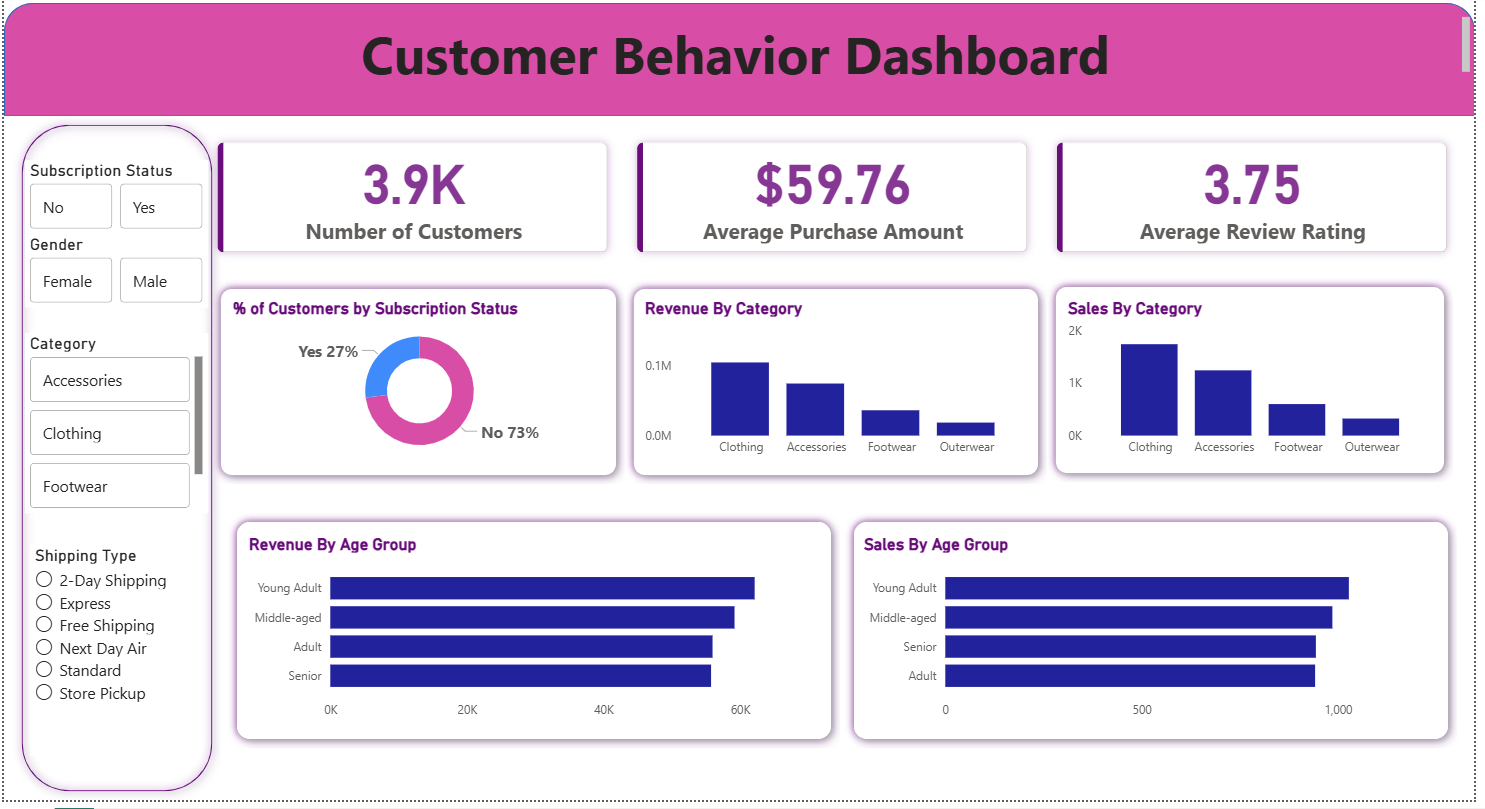

This screenshot's page, from the dashboard's own definition file:
{"tool":"powerbi","page":{"name":"Page 1","canvas":[1500,820],"ordinal":0},"visuals":[{"type":"cardVisual","fields":{"Data":["public customer.Number of Customers","public customer.Average Purchase Amount","public customer.Average Review Rating"]},"box":[189.7,121.4,1310.6,168.3],"z":0},{"type":"shape","box":[0,7.1,1500.3,115.2],"z":1000},{"type":"textbox","box":[0,16.3,1500.3,73.4],"z":2000},{"type":"shape","box":[212.1,289.7,426.3,208.1],"z":3000},{"type":"donutChart","title":"% of Customers by Subscription Status","fields":{"Category":["public customer.subscription_status"],"Y":["CountNonNull(public customer.customer_id)"]},"box":[228.5,308,391.6,170.3],"z":4000},{"type":"shape","box":[638.5,289.7,425.3,208.1],"z":5000},{"type":"shape","box":[1063.8,289.7,414.1,208.1],"z":6000},{"type":"clusteredColumnChart","title":"Revenue By Category","fields":{"Y":["Sum(public customer.purchase_amount)"],"Category":["public customer.category"]},"box":[653.8,308,394.7,170.3],"z":7000},{"type":"clusteredColumnChart","title":"Sales By Category","fields":{"Y":["CountNonNull(public customer.customer_id)"],"Category":["public customer.category"]},"box":[1080.1,308,380.4,170.3],"z":8000},{"type":"shape","box":[9.2,122.4,212.1,697.6],"z":9000},{"type":"advancedSlicerVisual","fields":{"Values":["public customer.subscription_status"]},"box":[21.4,167.3,186.6,75.5],"z":10000},{"type":"advancedSlicerVisual","fields":{"Values":["public customer.gender"]},"box":[21.4,242.7,186.6,75.5],"z":11000},{"type":"advancedSlicerVisual","fields":{"Values":["public customer.category"]},"box":[21.4,343.7,186.6,183.6],"z":12000},{"type":"listSlicer","fields":{"Values":["public customer.shipping_type"]},"box":[26.5,559.9,176.4,215.2],"z":13000},{"type":"shape","box":[221.3,527.3,631.3,239.7],"z":15000},{"type":"clusteredBarChart","title":"Revenue By Age Group","fields":{"Y":["Sum(public customer.purchase_amount)"],"Category":["public customer.age_group"]},"box":[238.7,548.7,596.6,197.9],"z":15001},{"type":"shape","box":[857.7,527.3,624.2,239.7],"z":15002},{"type":"clusteredBarChart","title":"Sales By Age Group","fields":{"Category":["public customer.age_group"],"Y":["CountNonNull(public customer.customer_id)"]},"box":[872,548.7,588.5,197.9],"z":15003}]}

Visuals, with their boxes in screenshot pixels (x1, y1, x2, y2), scaled from the page's 1500x820 canvas onto the 1485x809 screenshot:
cardVisual - public customer.Number of Customers x public customer.Average Purchase Amount: crop(188, 120, 1484, 286)
shape: crop(0, 7, 1484, 121)
textbox: crop(0, 16, 1484, 88)
shape: crop(210, 286, 632, 491)
"% of Customers by Subscription Status" donutChart: crop(226, 304, 614, 472)
shape: crop(632, 286, 1053, 491)
shape: crop(1053, 286, 1463, 491)
"Revenue By Category" clusteredColumnChart: crop(647, 304, 1038, 472)
"Sales By Category" clusteredColumnChart: crop(1069, 304, 1446, 472)
shape: crop(9, 121, 219, 808)
advancedSlicerVisual - public customer.subscription_status: crop(21, 165, 206, 240)
advancedSlicerVisual - public customer.gender: crop(21, 239, 206, 314)
advancedSlicerVisual - public customer.category: crop(21, 339, 206, 520)
listSlicer - public customer.shipping_type: crop(26, 552, 201, 765)
shape: crop(219, 520, 844, 757)
"Revenue By Age Group" clusteredBarChart: crop(236, 541, 827, 737)
shape: crop(849, 520, 1467, 757)
"Sales By Age Group" clusteredBarChart: crop(863, 541, 1446, 737)
